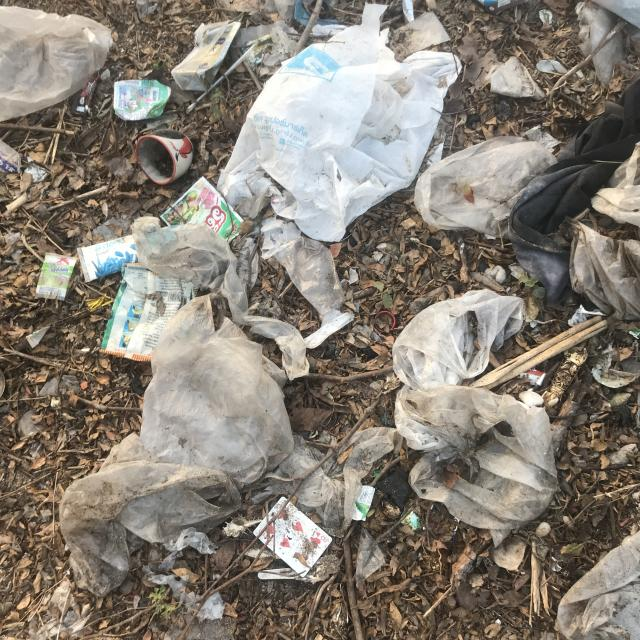Single-layer Plastic: (218, 4, 461, 241), (128, 212, 315, 388), (139, 295, 294, 488), (60, 434, 241, 596), (395, 385, 558, 542), (414, 136, 556, 238), (272, 428, 402, 536), (392, 290, 524, 390), (0, 6, 112, 121), (558, 531, 640, 640), (570, 222, 640, 320), (591, 142, 640, 228)
